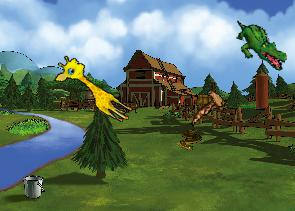crocodile: (226, 18, 294, 72)
eagle: (189, 78, 232, 130)
giraffe: (49, 51, 141, 126)
